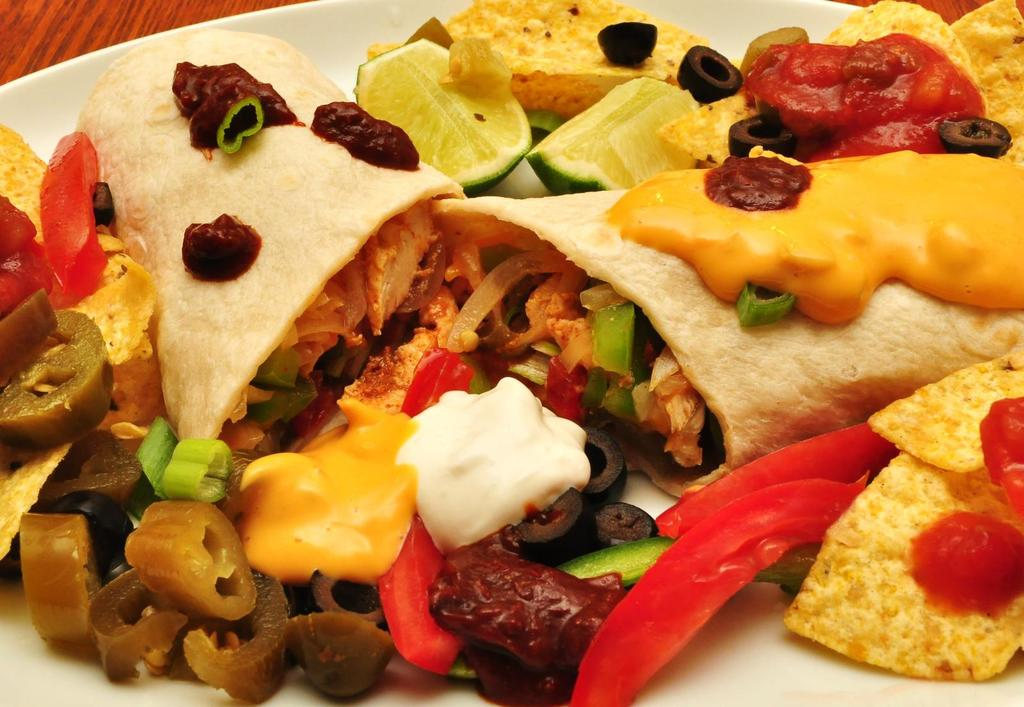taco: (419, 152, 1011, 492), (80, 46, 427, 502)
